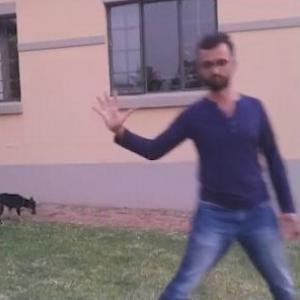follow_hand: (88, 83, 139, 133)
